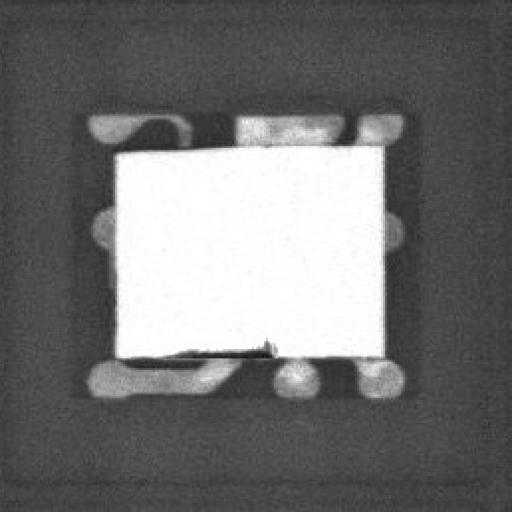DIE_BROKEN: (165, 336, 276, 358)
